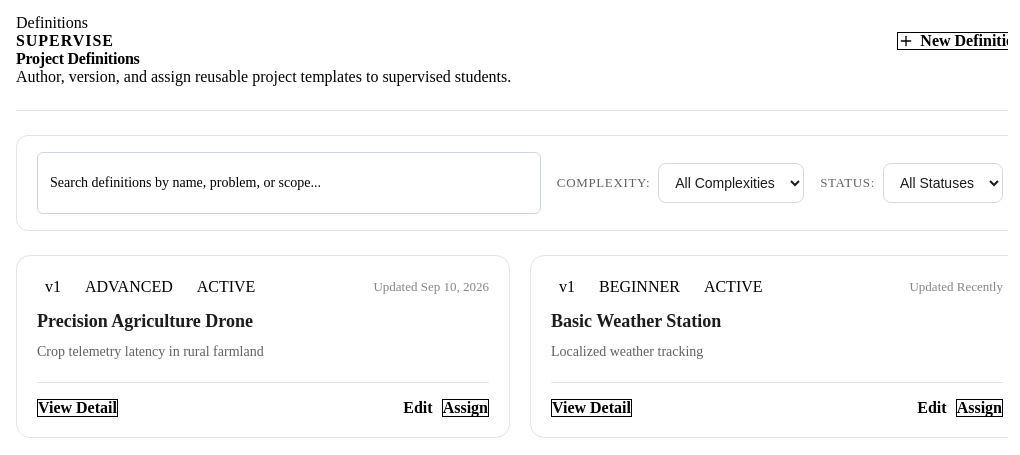
Phase 7 Batch 2: Mentor Project Definitions & Versioned Assignment › M17: ProjectsDirectory (/mentor/projects) › filters definitions by search query and complexity
Expected: the link "Precision Agriculture Drone" is shown, [37,311,253,331]
Expected: the link "Basic Weather Station" is shown, [551,311,721,331]
// Filter by search
Type "Weather" into the field named "Filter project definitions" at (289, 183), box [37,152,541,214]
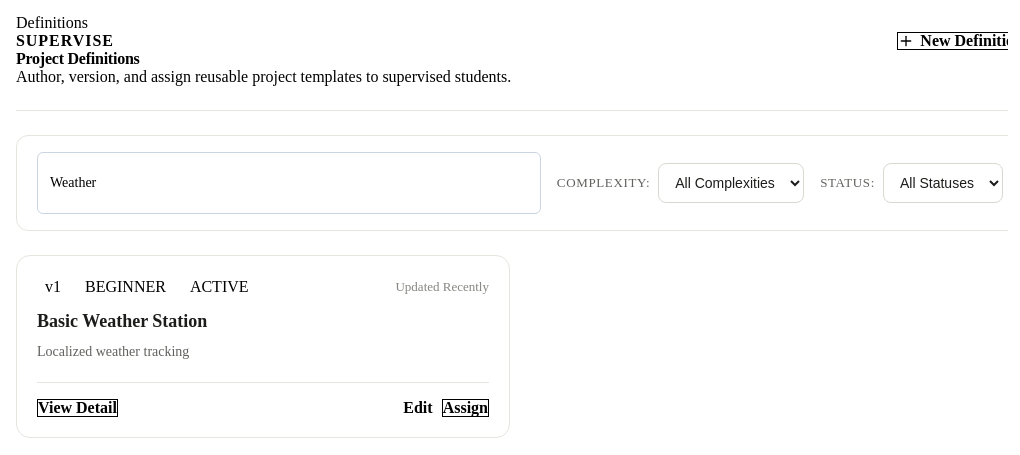
Expected: the link "Basic Weather Station" is shown, [37,311,207,331]
Expected: the link "Precision Agriculture Drone" is gone
// Reset search and filter by complexity
Clear the field named "Filter project definitions" at (289, 183), box [37,152,541,214]
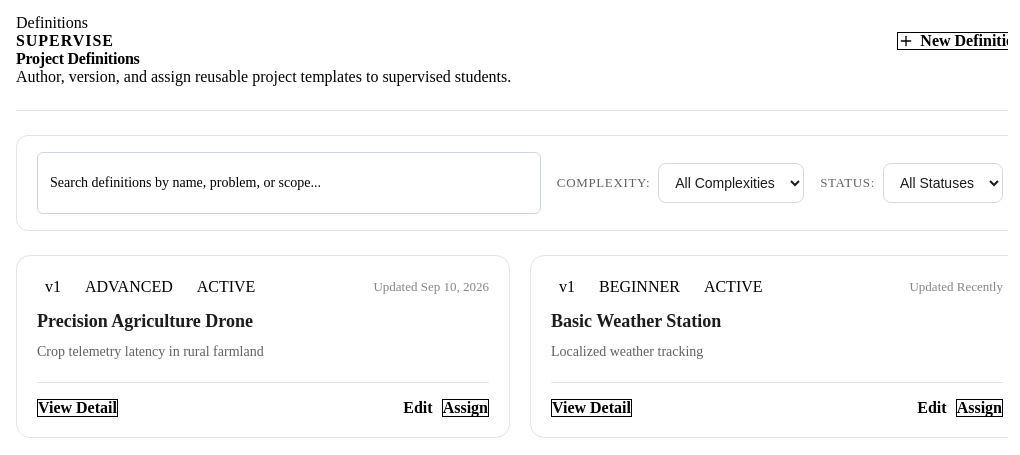
Select "Advanced" in the dropdown named "Filter by complexity" at (731, 183), box [658,163,804,203]
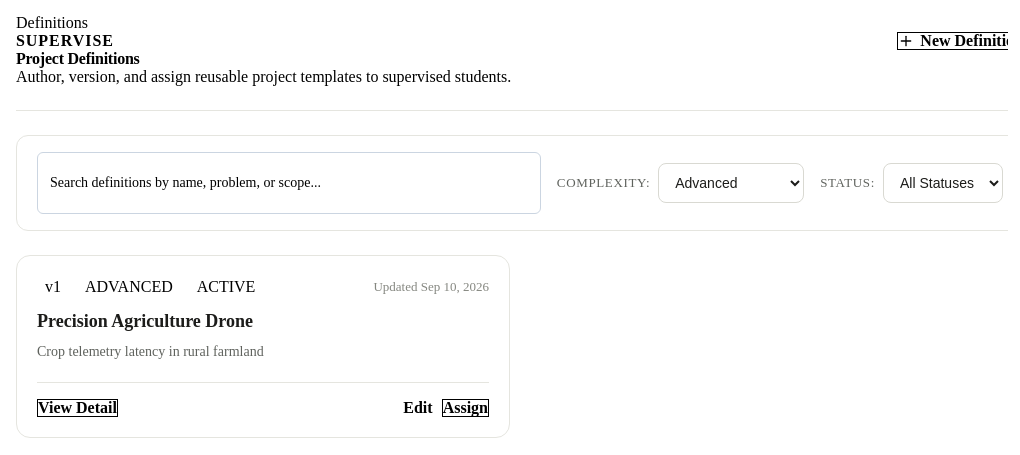
Expected: the link "Precision Agriculture Drone" is shown, [37,311,253,331]
Expected: the link "Basic Weather Station" is gone
